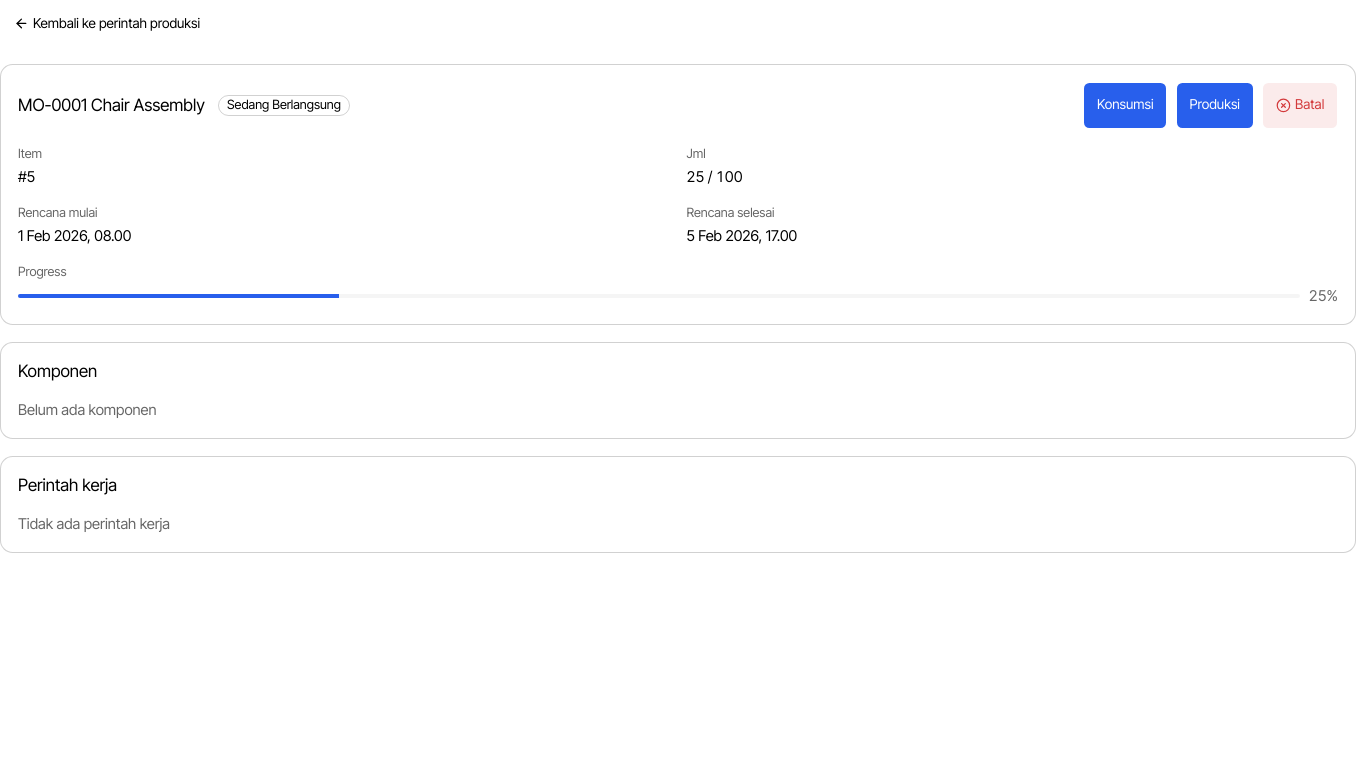
Scenario: MoDetailSection remainder › opens consume and produce dialogs for in-progress orders
This screenshot has width=1366, height=768.
Check: the text "MO-0001 Chair Assembly" is shown, box [18,94,205,117]
Click the button "Konsumsi". click: (1125, 105)
box: [1083,82,1167,129]
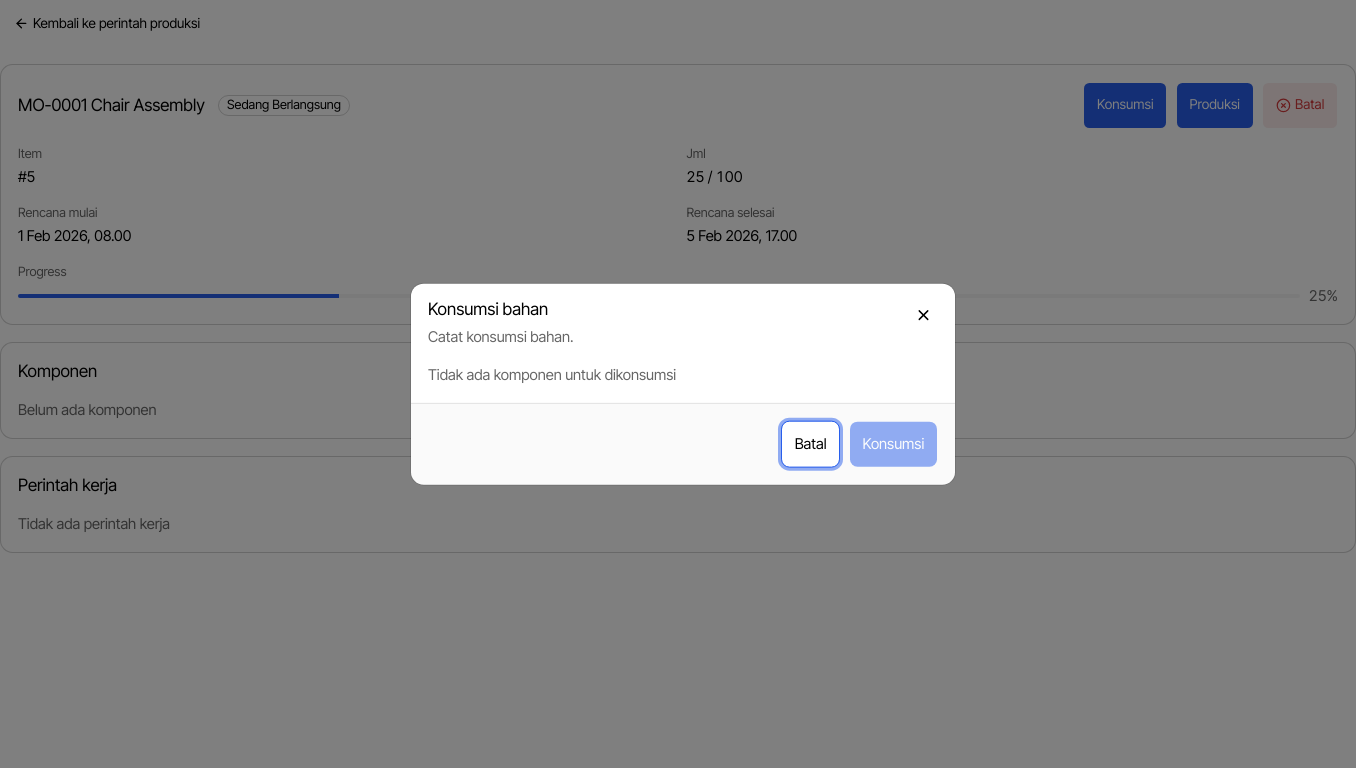
Check: the dialog is shown, box [411,284,955,484]
